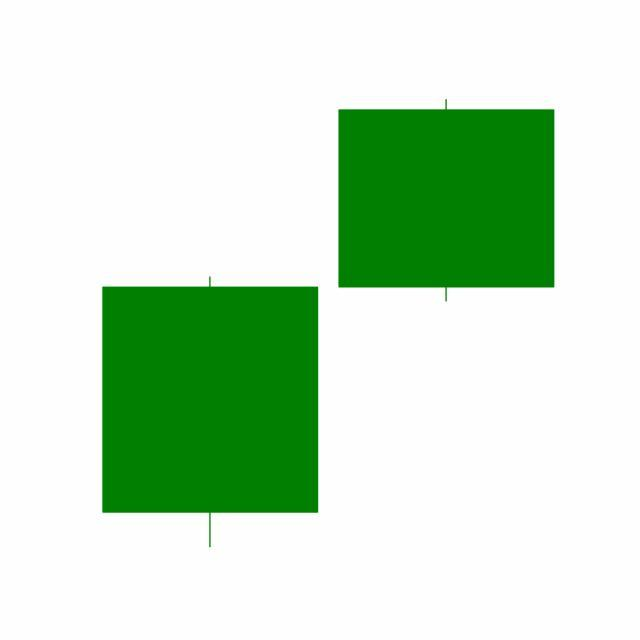Marubozu: (328, 97, 566, 305)
